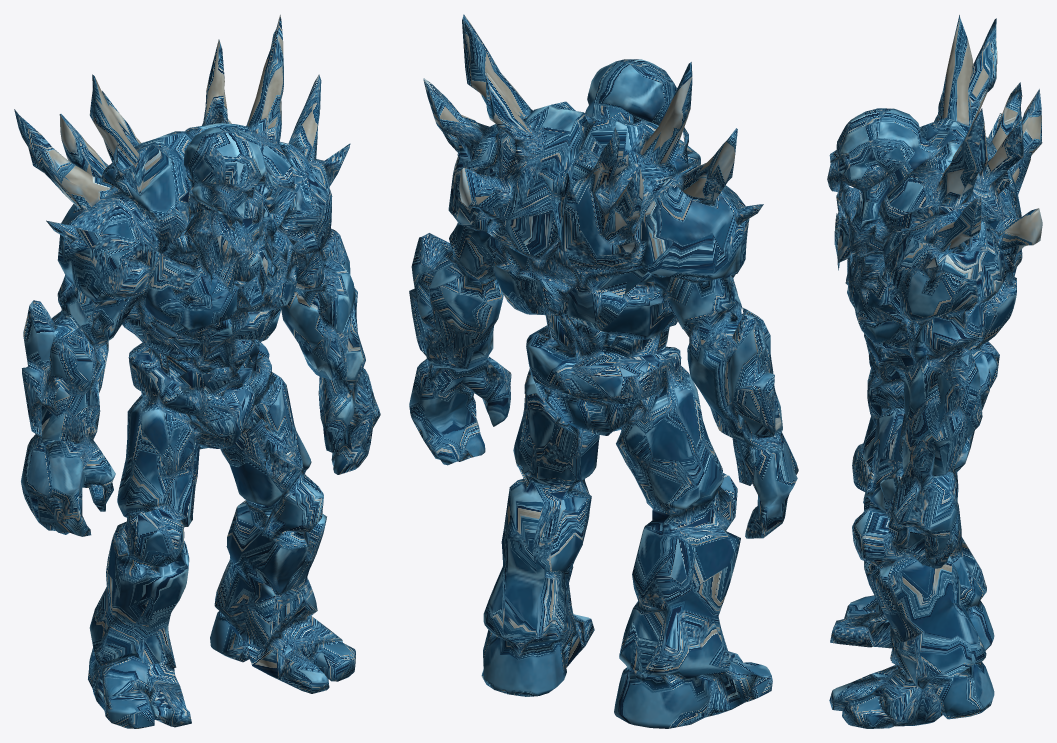
The model's file is winters_maw.glb.
The picture shows the model from 3 angles, left to right: view 1: azimuth 30°, elevation 25°; view 2: azimuth 150°, elevation 25°; view 3: azimuth 270°, elevation 25°; orthographic projection. The views are drawn at different scales.
Parts seen in each view (by area): view 1: Mesh_0; view 2: Mesh_0; view 3: Mesh_0.
Part boxes in pixels (box(x1,y1,x2,y2)): Mesh_0: box(14, 14, 380, 728); Mesh_0: box(409, 14, 798, 728); Mesh_0: box(827, 15, 1042, 728).
Size of the model in its own units: 1.13 by 1.9 by 0.6036.
1 material, 1 textured.
